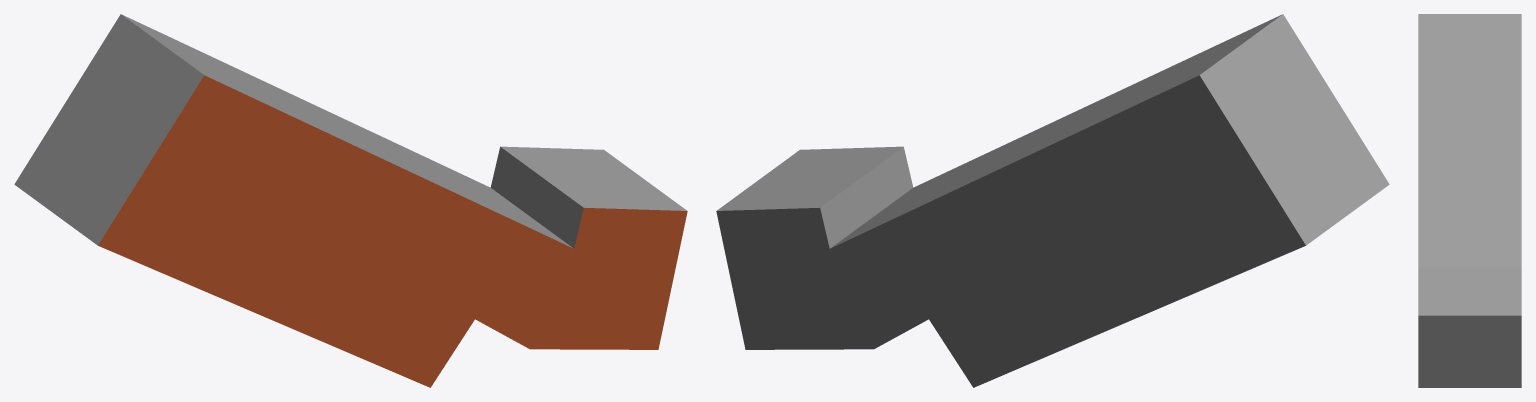
Rendered from construction_6735_assumed_A_Casa_h6m.obj.
The picture shows the model from 3 angles, left to right: view 1: azimuth 30°, elevation 25°; view 2: azimuth 150°, elevation 25°; view 3: azimuth 270°, elevation 25°; orthographic projection. The views are drawn at different scales.
Parts seen in each view (by area): view 1: construction_6735_assumed_A_Casa; view 2: construction_6735_assumed_A_Casa; view 3: construction_6735_assumed_A_Casa.
Boxes of the visible parts, x1,y1,x2,y2 form: construction_6735_assumed_A_Casa: (14, 14, 687, 387); construction_6735_assumed_A_Casa: (716, 14, 1389, 387); construction_6735_assumed_A_Casa: (1418, 14, 1521, 387).
Bounding box in the file's own units: 24.43 × 15.26 × 6.
